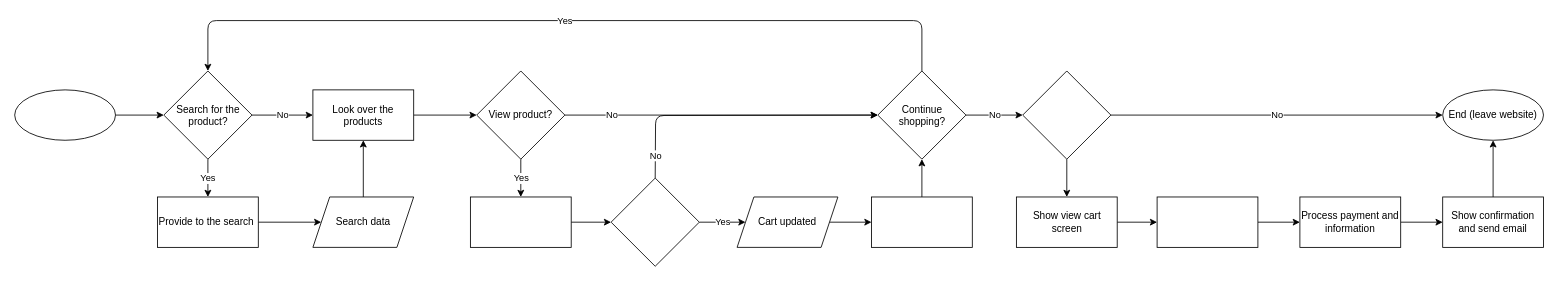
Image size: 1558x281. Some labels were removed from this diagram. Each missing label, with the centre of its shape:
"Add to cart?" belongs at (x=654, y=221).
"Checkout?" belongs at (x=1066, y=114).
"Open a product's webpage" belongs at (x=520, y=221).
"Show cart update confirmation" belongs at (x=921, y=221).
"Show Payment Screen" belongs at (x=1207, y=221).
"Start" belongs at (x=65, y=114).
